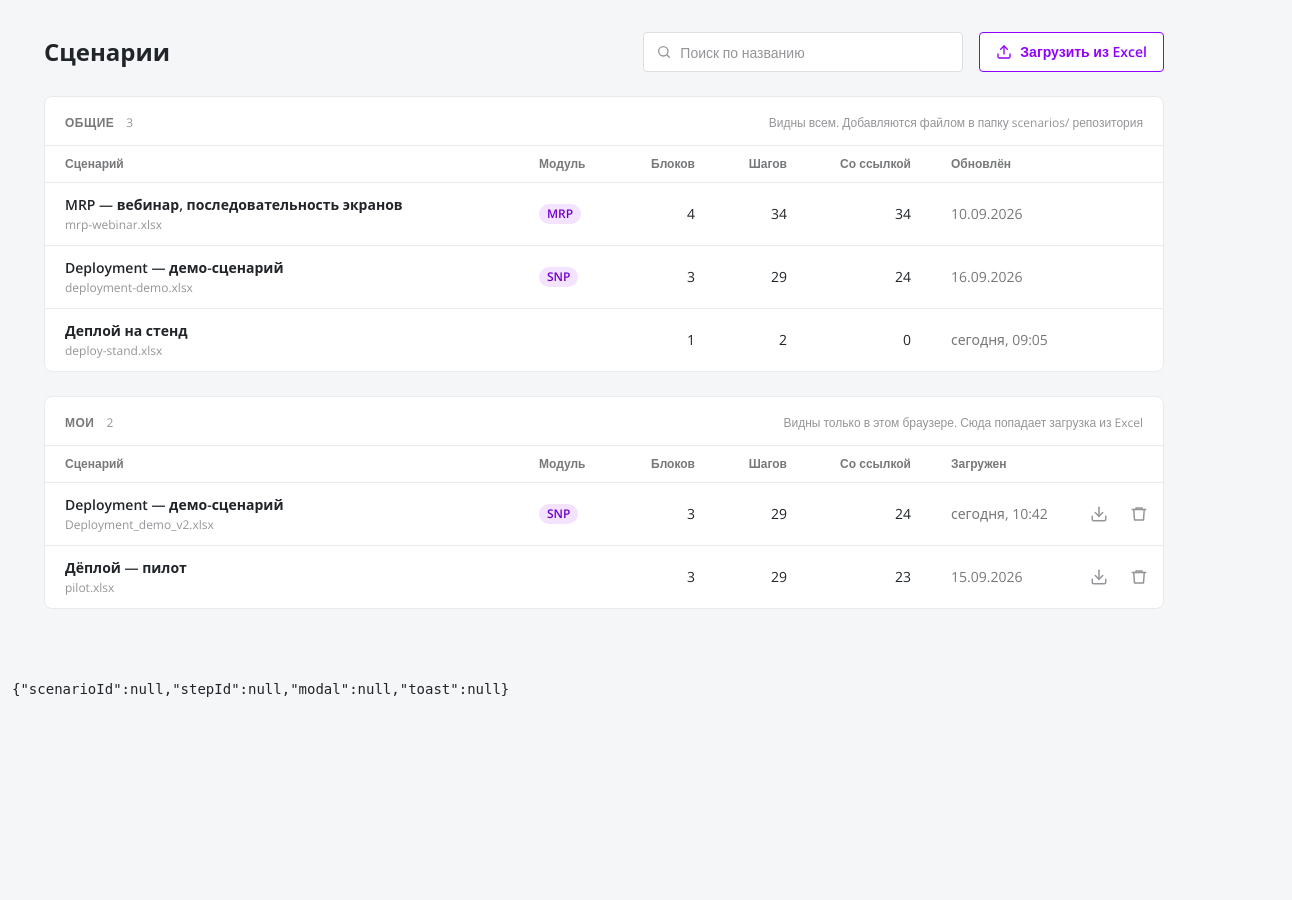
Test: Catalog: SPEC §4.2:247-257, ТК 26 — SPEC §8:422 › поиск "webinar": имя файла не ищется — оба раздела «Ничего не найдено»
This screenshot has width=1292, height=900.
Type "webinar" into the search field labelled "Поиск по названию" at x=815, y=52, box x1=680 y1=33 x2=950 y2=71
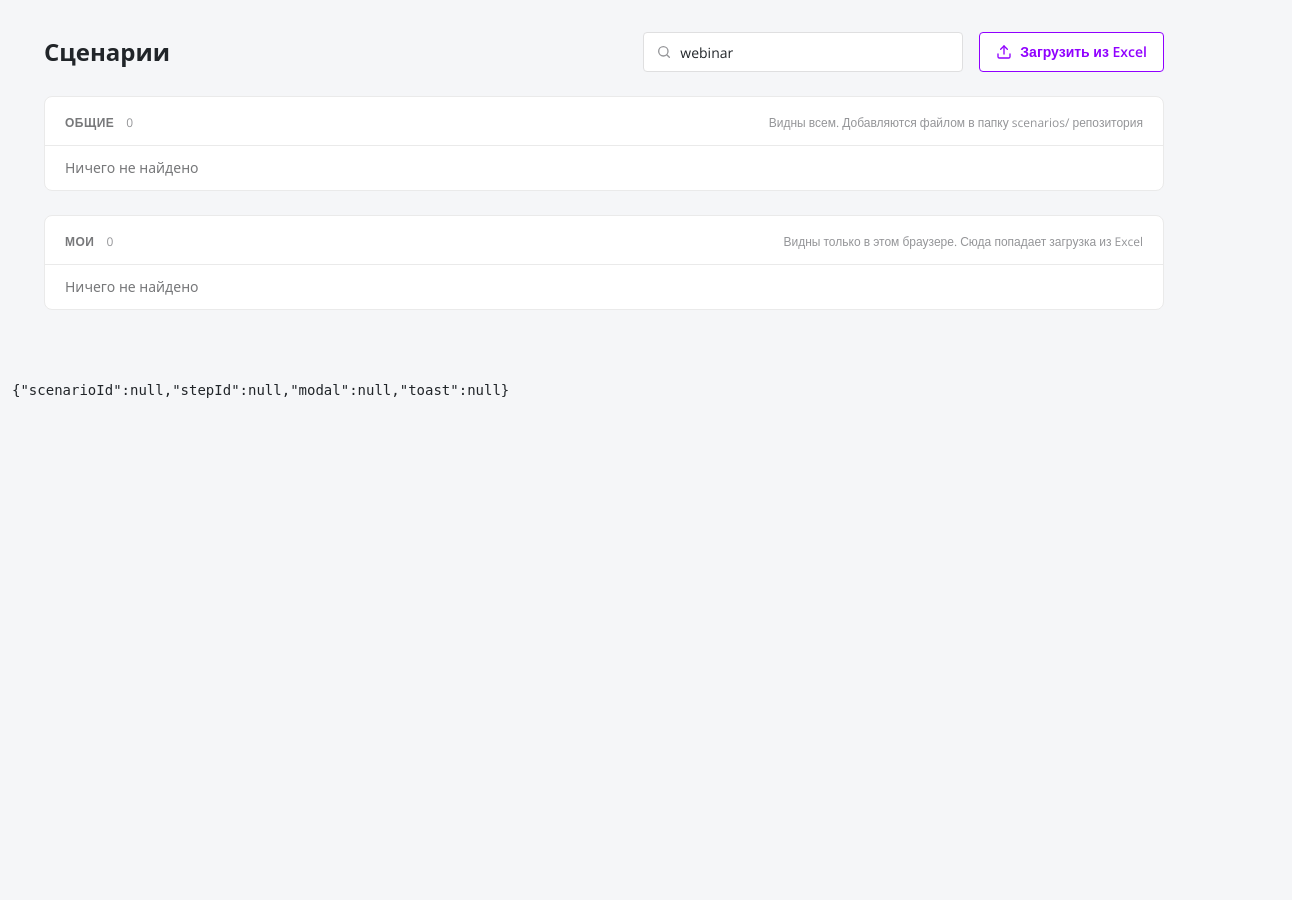
Expected: the text "Ничего не найдено" below "Общие" is shown, x1=65 y1=158 x2=198 y2=177
Expected: the text "Ничего не найдено" below "Мои" is shown, x1=65 y1=277 x2=198 y2=296
